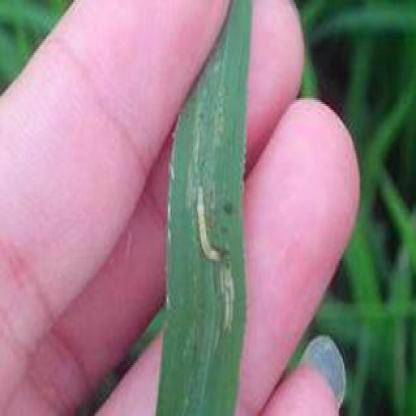leaf-folder: (187, 173, 229, 271)
